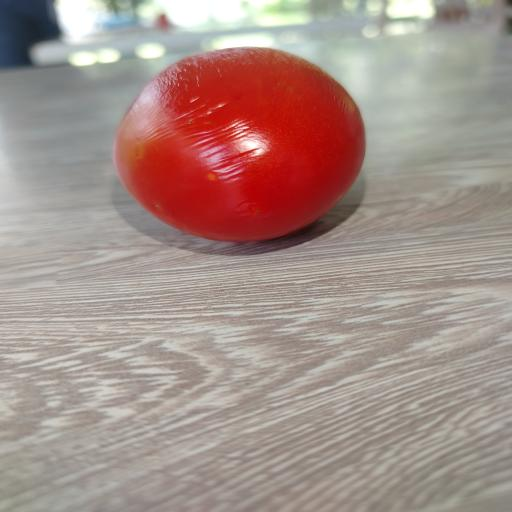spoiled: (114, 47, 365, 241)
